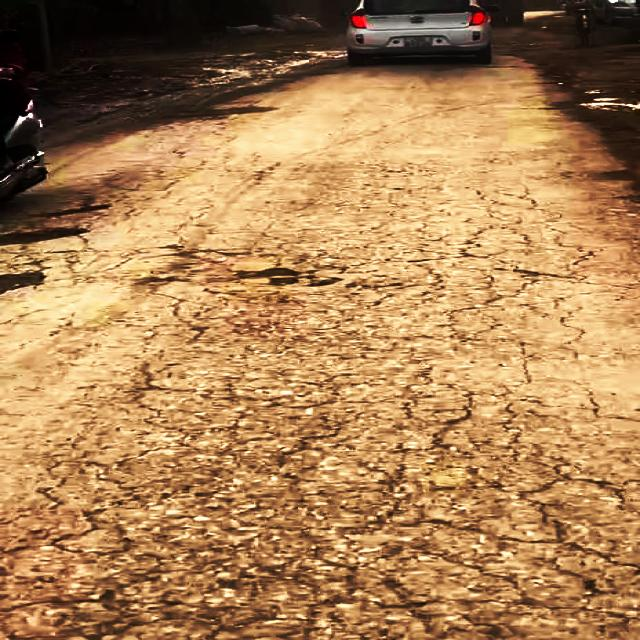pothole: (0, 217, 94, 247), (0, 267, 51, 298)
